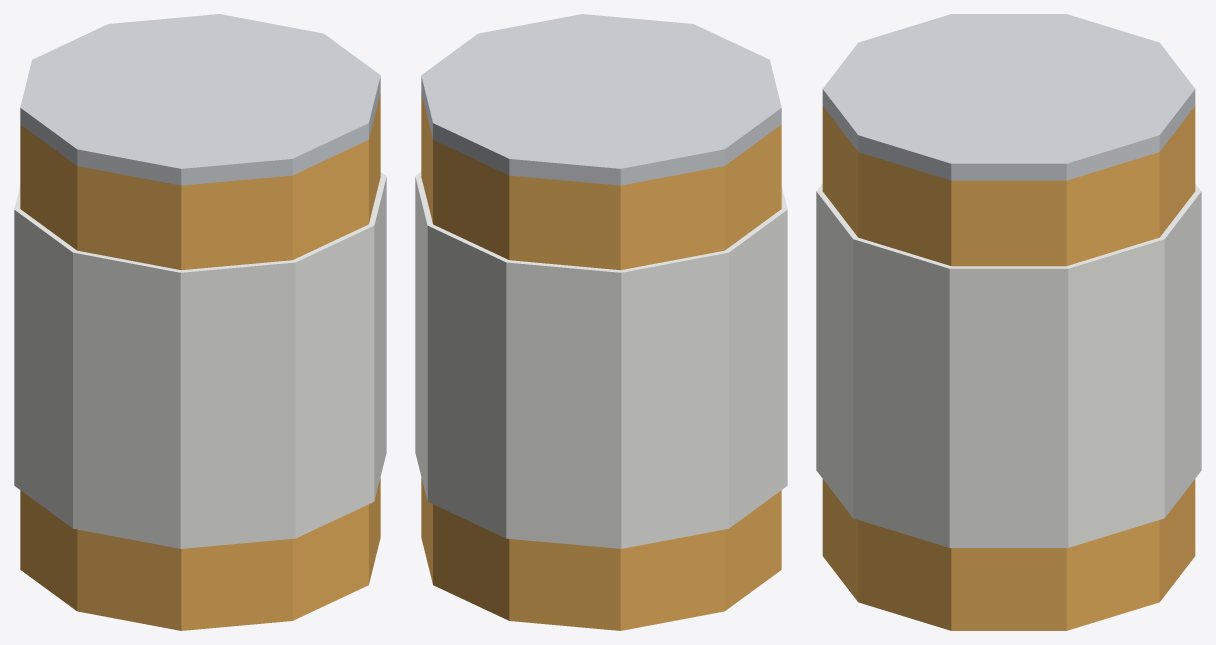
Rendered from Lata_Refresco.fbx.
3 renders of one model, left to right at view 1: azimuth 30°, elevation 25°; view 2: azimuth 150°, elevation 25°; view 3: azimuth 270°, elevation 25°, orthographic.
Visible parts, largest first — view 1: Lata_Refresco | Etiqueta lata, Lata_Refresco | Lata, Lata_Refresco | Tapa lata; view 2: Lata_Refresco | Etiqueta lata, Lata_Refresco | Lata, Lata_Refresco | Tapa lata; view 3: Lata_Refresco | Etiqueta lata, Lata_Refresco | Lata, Lata_Refresco | Tapa lata.
Part boxes in pixels (x1=…): Lata_Refresco | Etiqueta lata: x1=14, y1=172, x2=386, y2=548; Lata_Refresco | Lata: x1=20, y1=93, x2=380, y2=630; Lata_Refresco | Tapa lata: x1=20, y1=14, x2=380, y2=185; Lata_Refresco | Etiqueta lata: x1=415, y1=172, x2=787, y2=548; Lata_Refresco | Lata: x1=421, y1=93, x2=781, y2=630; Lata_Refresco | Tapa lata: x1=421, y1=14, x2=781, y2=185; Lata_Refresco | Etiqueta lata: x1=816, y1=183, x2=1201, y2=547; Lata_Refresco | Lata: x1=822, y1=106, x2=1195, y2=630; Lata_Refresco | Tapa lata: x1=822, y1=14, x2=1195, y2=180.
Bounding box in the file's own units: 0.1179 × 0.166 × 0.124.
